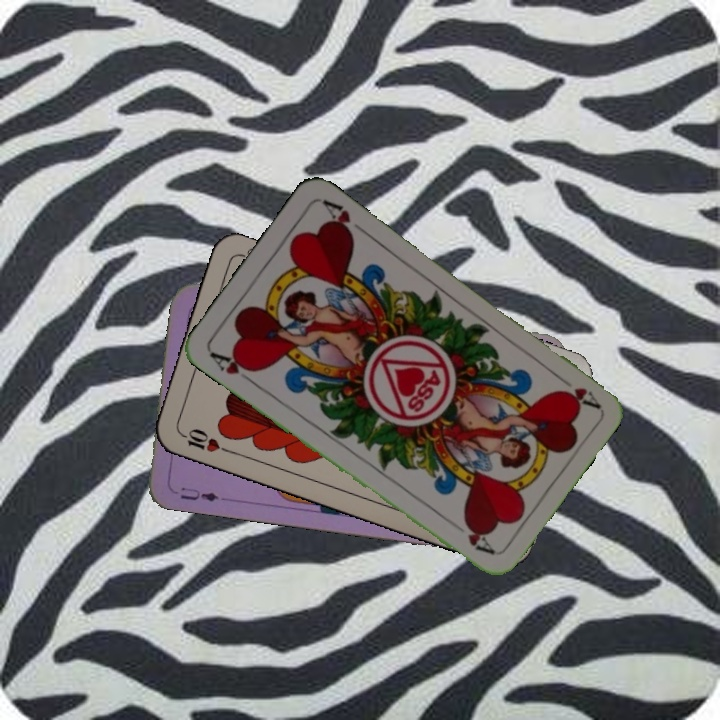EU: (177, 483, 221, 504)
H10: (175, 424, 232, 455)
HA: (206, 347, 259, 388), (550, 369, 601, 411)
